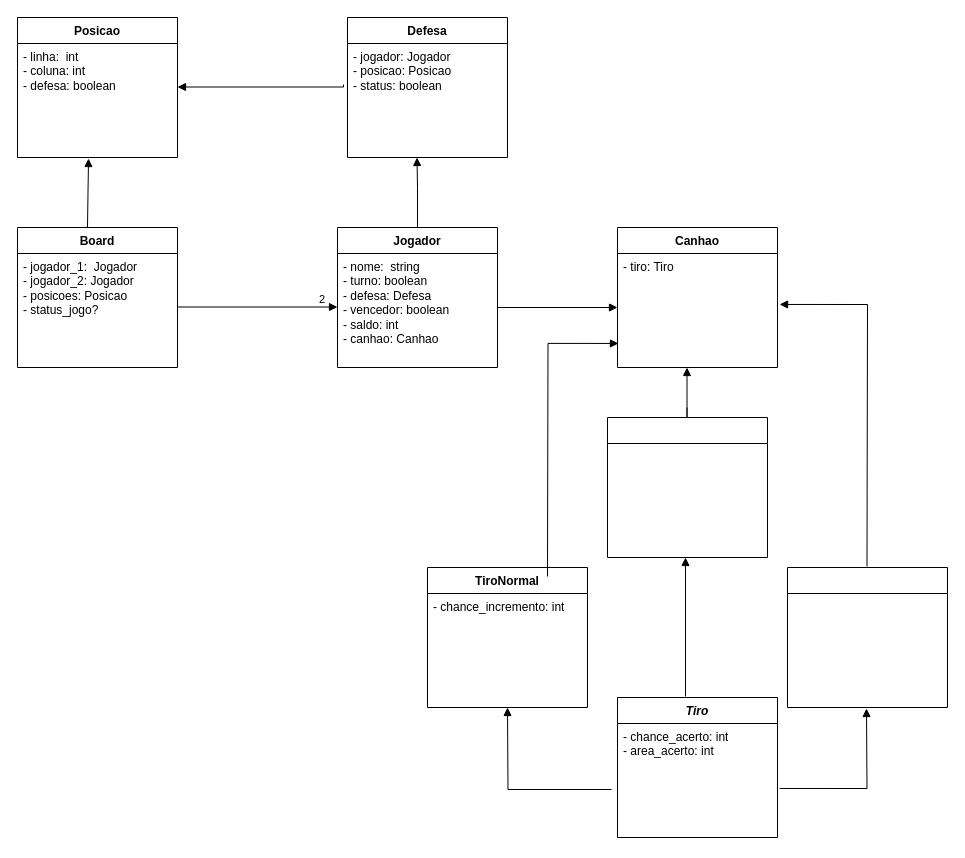
Image size: 965x858. Some labels were removed from this diagram. The centre of each missing label's shape, as x and y in pixels:
"TiroForte" goes at [687,487].
"TiroPreciso" goes at [867,637].
